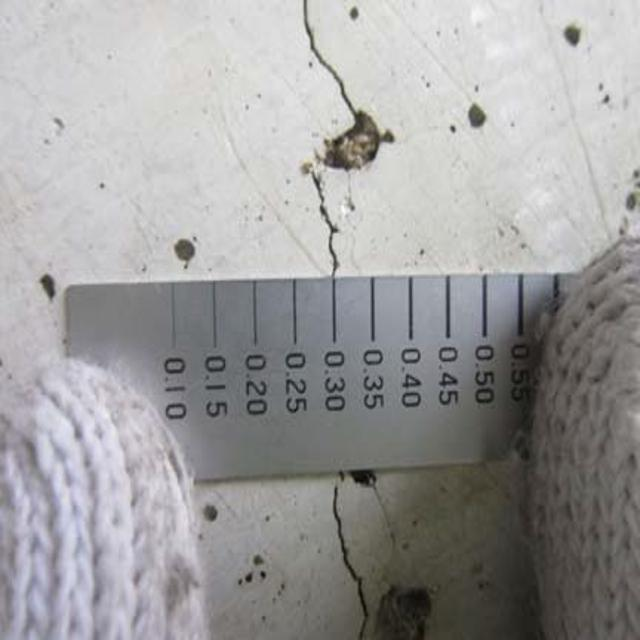crack: (290, 10, 384, 290), (316, 480, 450, 640)
